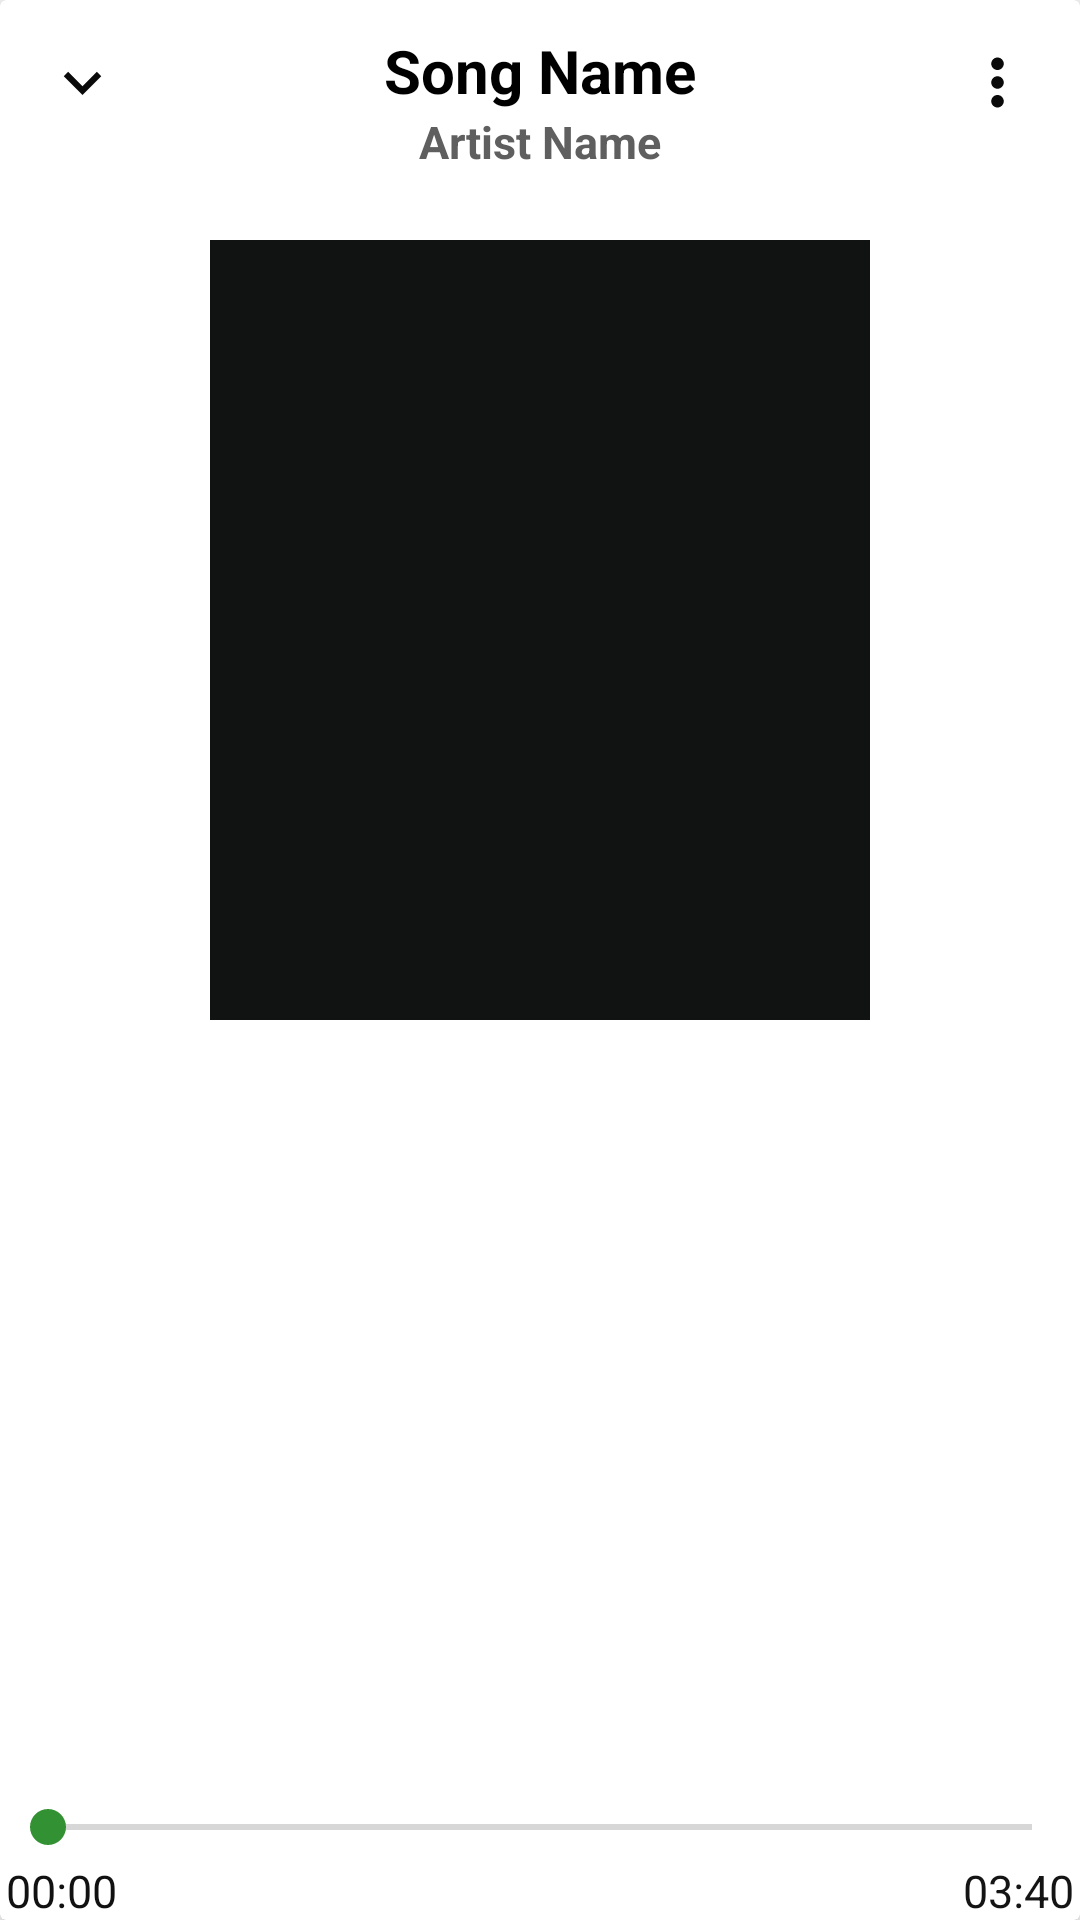

Where icons sit on this 1080×1920 app screen, as (x1, y1, x2, y2):
keyboard arrow down: (64, 72, 101, 95)
more vert: (991, 57, 1004, 108)
